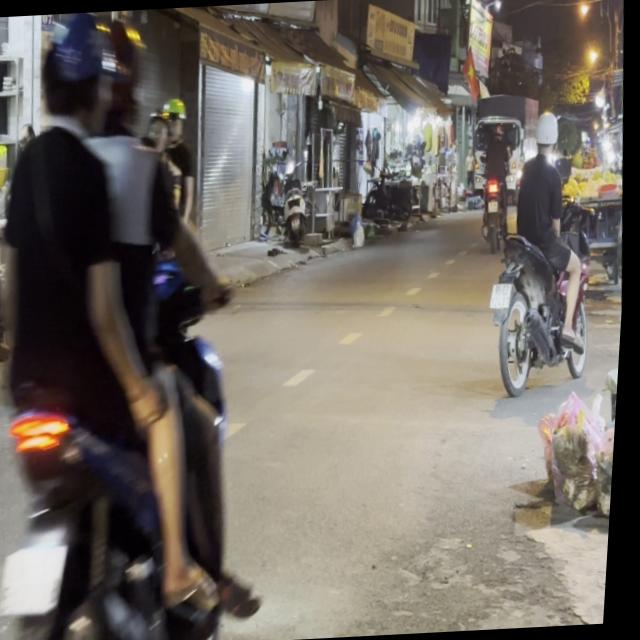helmet: (32, 11, 112, 134), (91, 15, 149, 136), (532, 108, 560, 152)
licenseplate: (0, 4, 278, 640), (477, 102, 607, 398)
nohelmet: (1, 535, 75, 612), (492, 280, 516, 306)
